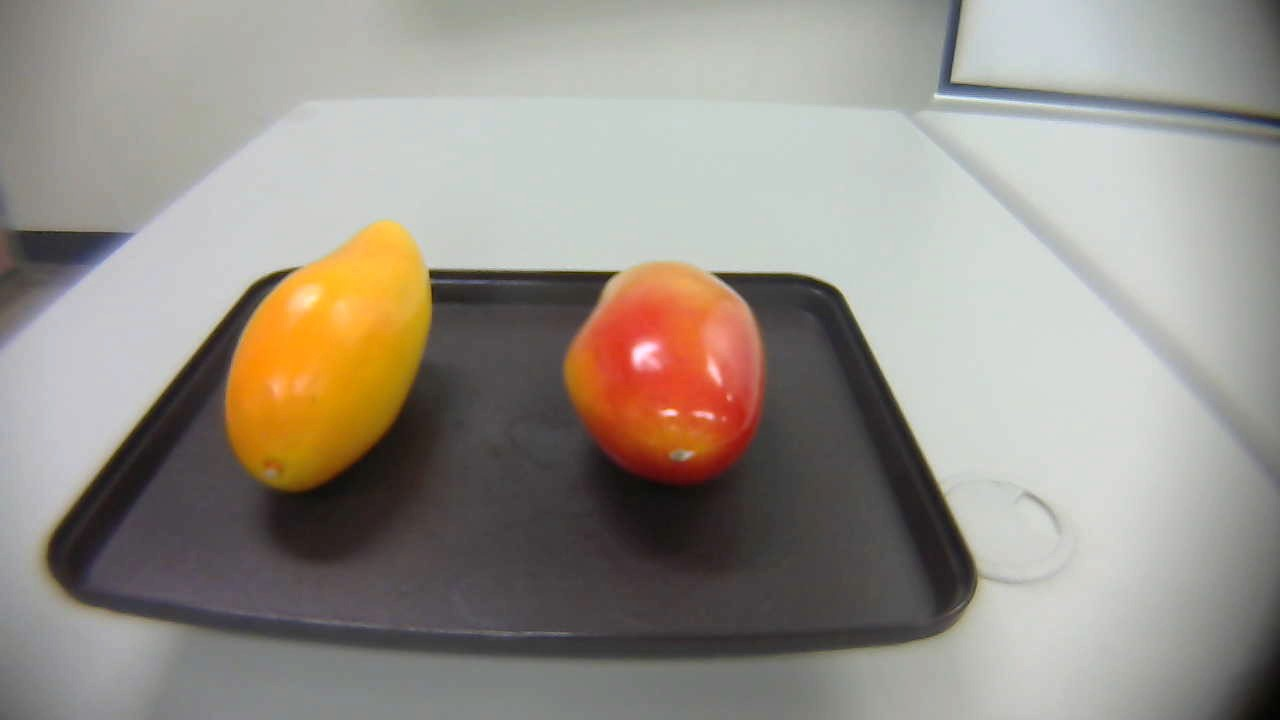red mango: (554, 250, 768, 487)
yellow mango: (220, 216, 441, 509)
